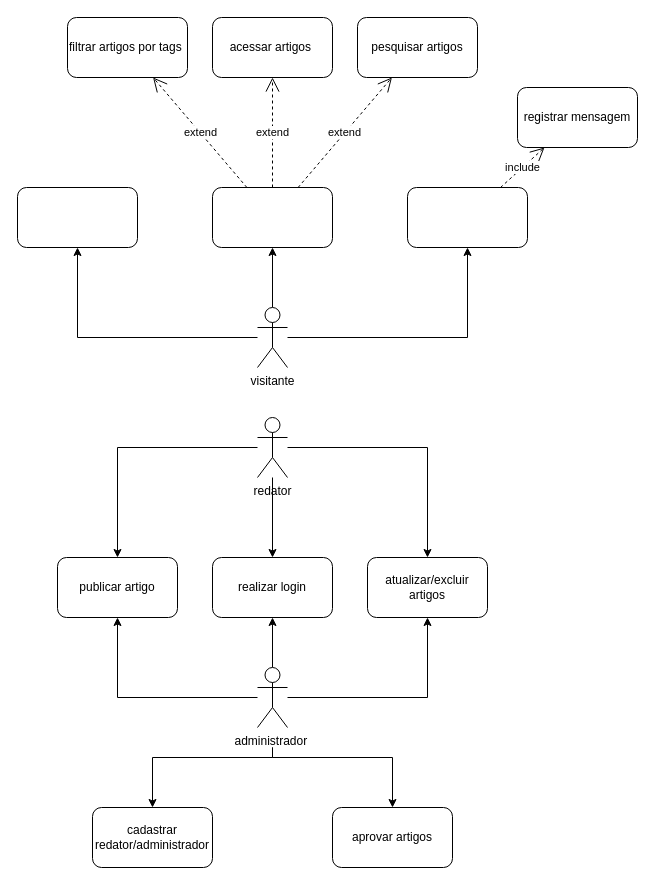
Image size: 655x885. Some labels were removed from this diagram. The shapes that lost their labels are listed below. From the top down, each one's centre as x and y in pixels, then its label:
At point (77, 217): "usar calculadoras".
At point (272, 217): "ver feed de noticias".
At point (467, 217): "entrar em contato".
